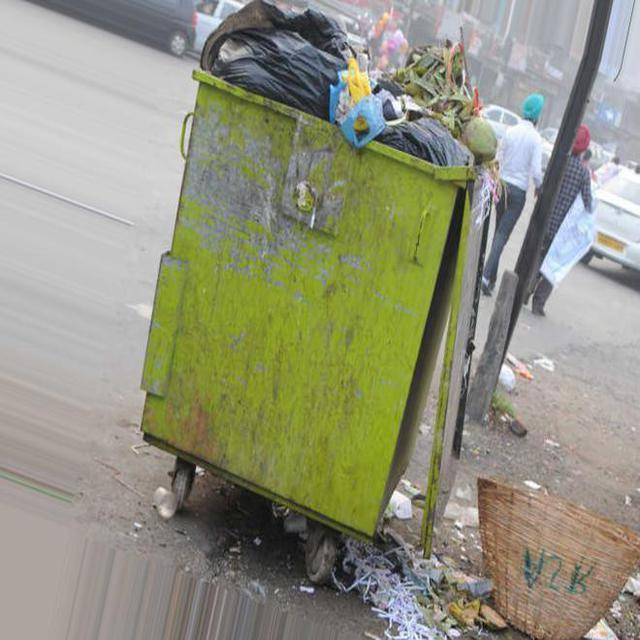garbage: (198, 5, 506, 184), (350, 477, 639, 639), (488, 340, 556, 392)
